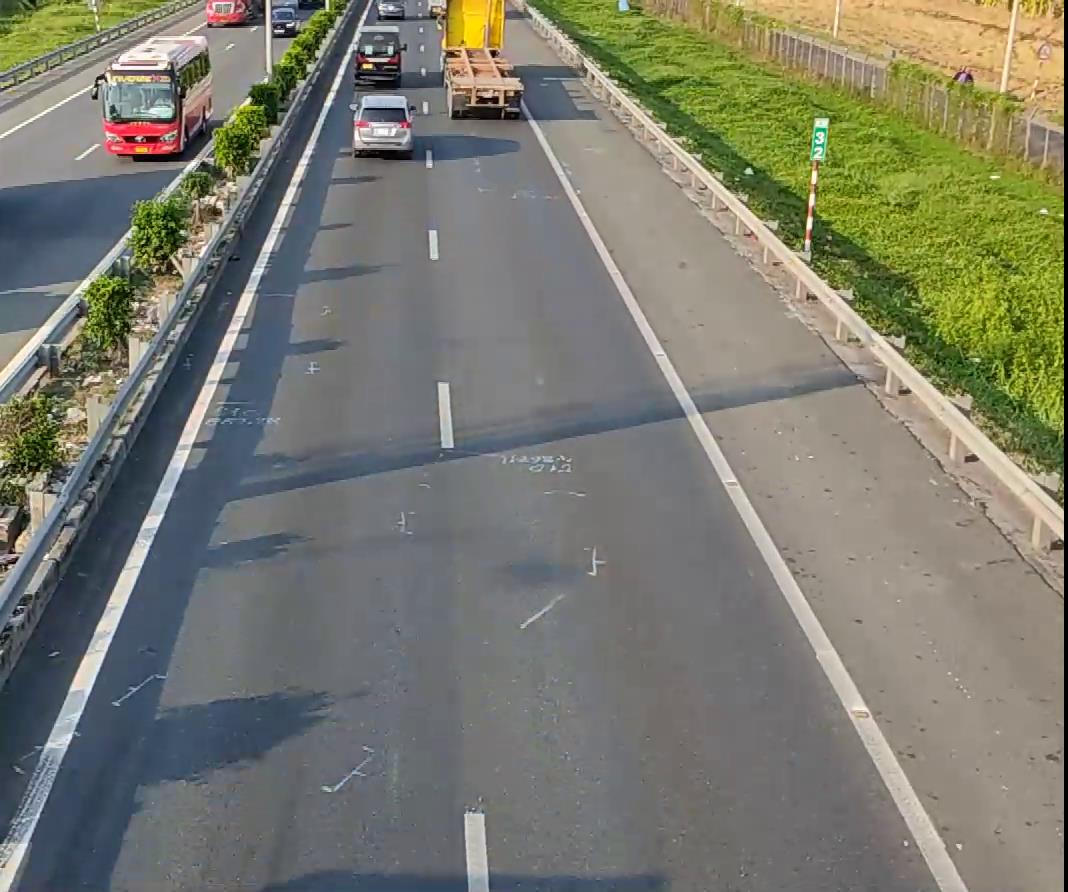bus: (97, 31, 216, 160)
car: (349, 90, 413, 156)
container: (439, 0, 522, 119)
